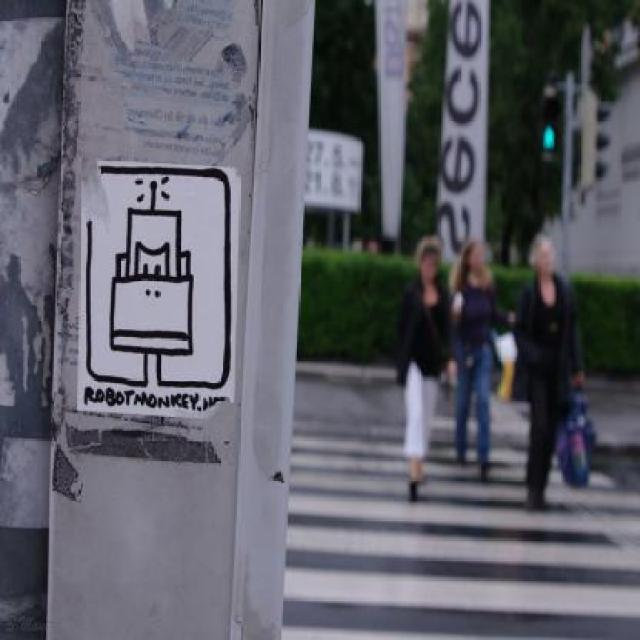Person: (519, 220, 590, 509), (393, 235, 461, 503), (446, 235, 516, 472)
